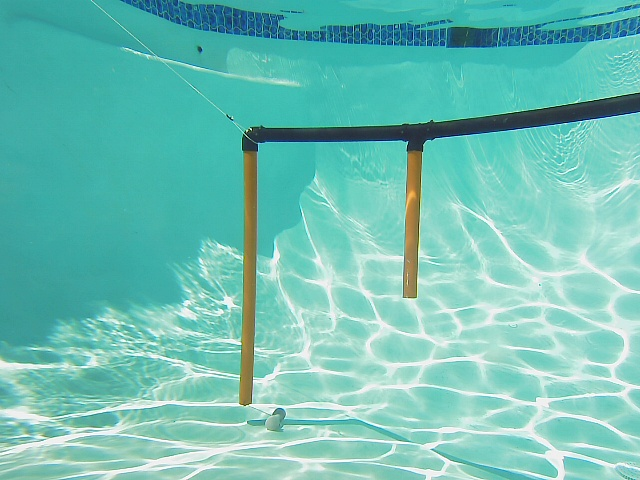Gate: (237, 150, 257, 408), (398, 146, 428, 298)
